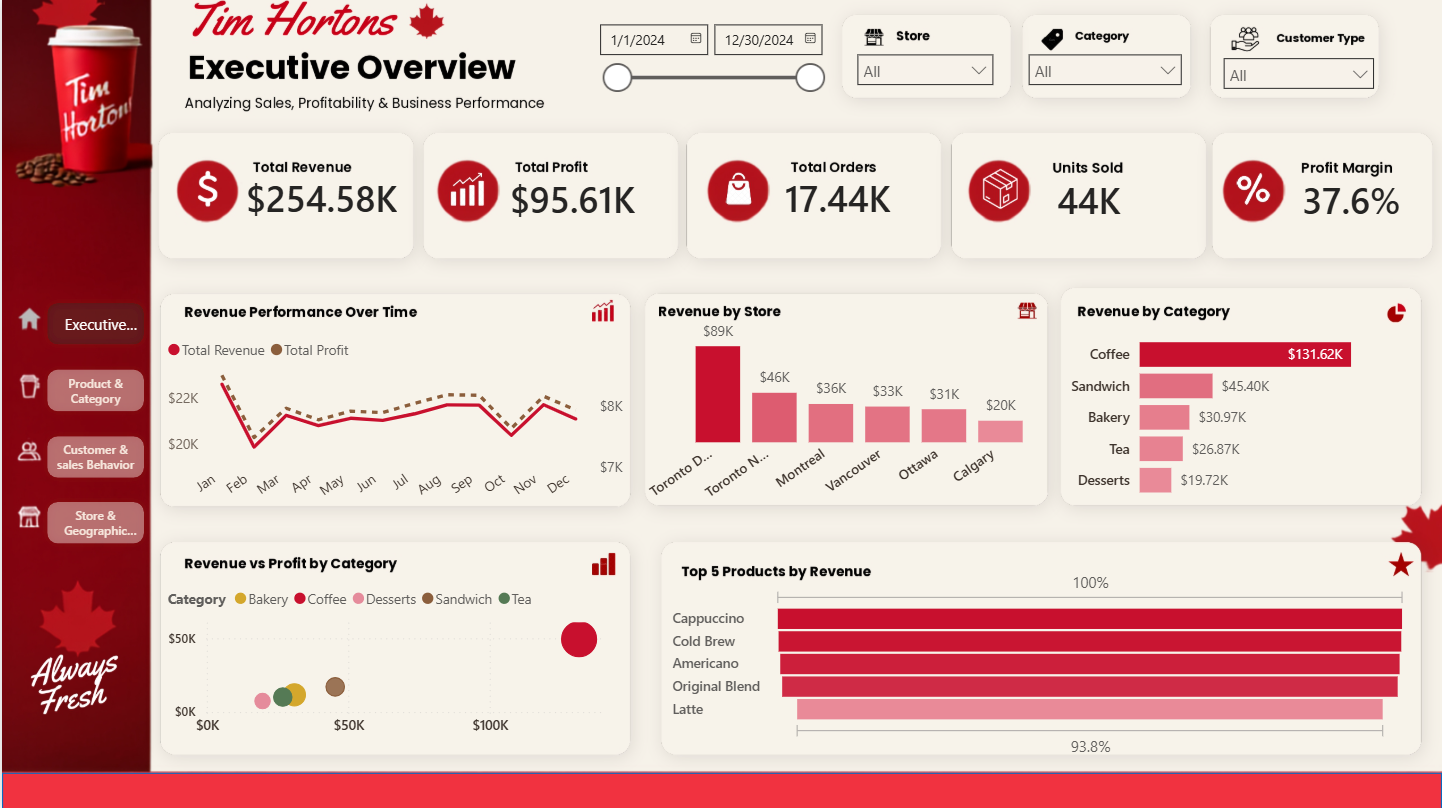

Layout of this report page (visuals, bound fields, positions):
{"tool":"powerbi","page":{"name":"Executive Overview","canvas":[1280,720],"ordinal":0},"visuals":[{"type":"slicer","fields":{"Values":["DimDate.Date"]},"box":[519.4,12,220.9,78.6],"z":0},{"type":"slicer","fields":{"Values":["DimStore.Store"]},"box":[749.9,38.9,140.9,43.1],"z":1000},{"type":"slicer","fields":{"Values":["DimProduct.Category"]},"box":[902.4,38.9,156.7,47.3],"z":2000},{"type":"cardVisual","fields":{"Data":["Measures (2).Total Revenue"]},"box":[187.6,130.3,195,90.6],"z":3000},{"type":"cardVisual","fields":{"Data":["Measures (2).Total Profit"]},"box":[422.4,132.2,173.7,86.9],"z":4000},{"type":"cardVisual","fields":{"Data":["Measures (2).Total Orders"]},"box":[666.3,130.3,154.3,90.6],"z":5000},{"type":"cardVisual","fields":{"Data":["Measures (2).Profit Margin"]},"box":[1126.6,144.2,148.8,64.7],"z":6000},{"type":"cardVisual","fields":{"Data":["Measures (2).Units Sold"]},"box":[909.4,135.9,124.8,82.3],"z":7000},{"type":"lineChart","fields":{"Category":["DimDate.Month Name"],"Y":["Measures (2).Total Revenue"],"Y2":["Measures (2).Total Profit"]},"box":[142,292.4,414.4,171.4],"z":8000},{"type":"barChart","fields":{"Y":["Measures (2).Total Revenue"],"Category":["DimProduct.Category"]},"box":[944.5,281,310.5,174.7],"z":9000},{"type":"columnChart","fields":{"Y":["Measures (2).Total Revenue"],"Category":["DimStore.Store"]},"box":[556.4,273.6,377.1,183.9],"z":10000},{"type":"scatterChart","fields":{"X":["Measures (2).Total Revenue"],"Y":["Measures (2).Total Profit"],"Size":["Measures (2).Total Orders"],"Category":["DimProduct.Category"],"Series":["DimProduct.Category"]},"box":[142.3,513.8,414,150.6],"z":11000},{"type":"slicer","fields":{"Values":["SalesData.CustomerType"]},"box":[1075.8,42.5,154.3,45.3],"z":12000},{"type":"funnel","fields":{"Category":["DimProduct.Product"],"Y":["Measures (2).Total Revenue"]},"box":[591.5,504.6,663.6,173.7],"z":13000},{"type":"pageNavigator","box":[31.7,262.3,102.8,230.6],"z":14000},{"type":"shape","box":[0,688,1280,33],"z":14001}]}

Visuals, with their boxes in screenshot pixels (x1, y1, x2, y2), scaled from the page's 1280x720 canvas onto the 1442x808 screenshot:
slicer - DimDate.Date: locate(585, 13, 834, 102)
slicer - DimStore.Store: locate(845, 44, 1004, 92)
slicer - DimProduct.Category: locate(1017, 44, 1193, 97)
cardVisual - Measures (2).Total Revenue: locate(211, 146, 431, 248)
cardVisual - Measures (2).Total Profit: locate(476, 148, 672, 246)
cardVisual - Measures (2).Total Orders: locate(751, 146, 924, 248)
cardVisual - Measures (2).Profit Margin: locate(1269, 162, 1437, 234)
cardVisual - Measures (2).Units Sold: locate(1024, 153, 1165, 245)
lineChart - DimDate.Month Name x Measures (2).Total Revenue: locate(160, 328, 627, 520)
barChart - Measures (2).Total Revenue x DimProduct.Category: locate(1064, 315, 1414, 511)
columnChart - Measures (2).Total Revenue x DimStore.Store: locate(627, 307, 1052, 513)
scatterChart - Measures (2).Total Revenue x Measures (2).Total Profit: locate(160, 577, 627, 746)
slicer - SalesData.CustomerType: locate(1212, 48, 1386, 99)
funnel - DimProduct.Product x Measures (2).Total Revenue: locate(666, 566, 1414, 761)
pageNavigator: locate(36, 294, 152, 553)
shape: locate(0, 772, 1441, 807)
